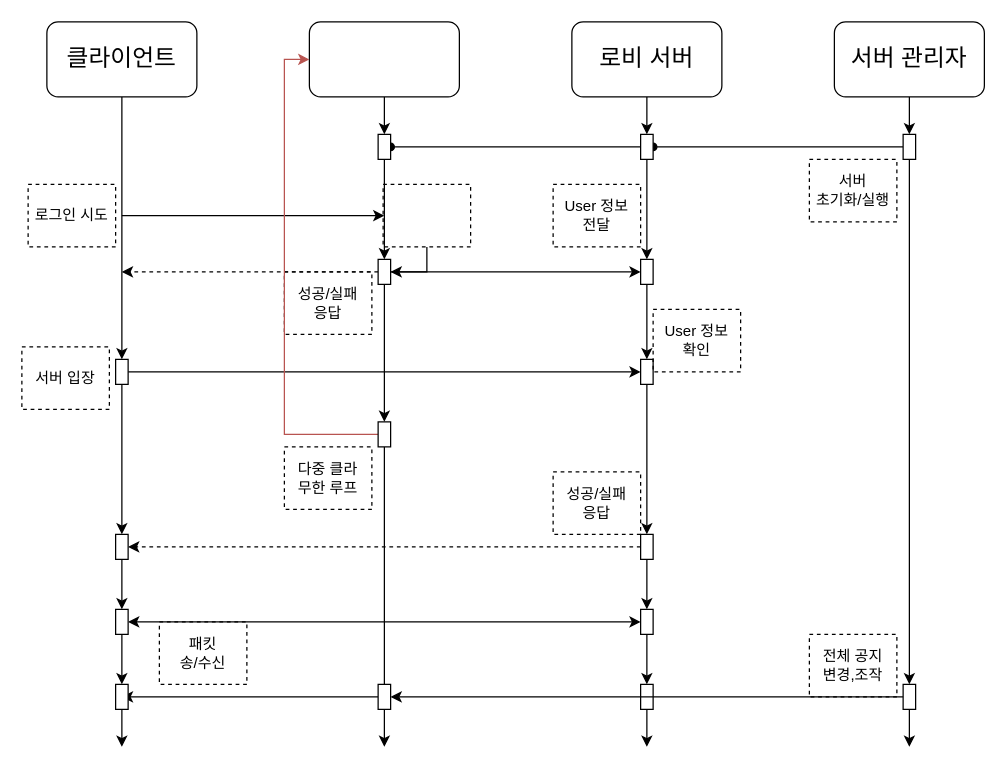
Image size: 1006x779. Some labels were removed from this diagram. The centre of each missing label's shape, as x and y in pixels:
"ID/PASS 확인" belongs at pixel 426 215.
"로그인 서버" belongs at pixel 383 59.
